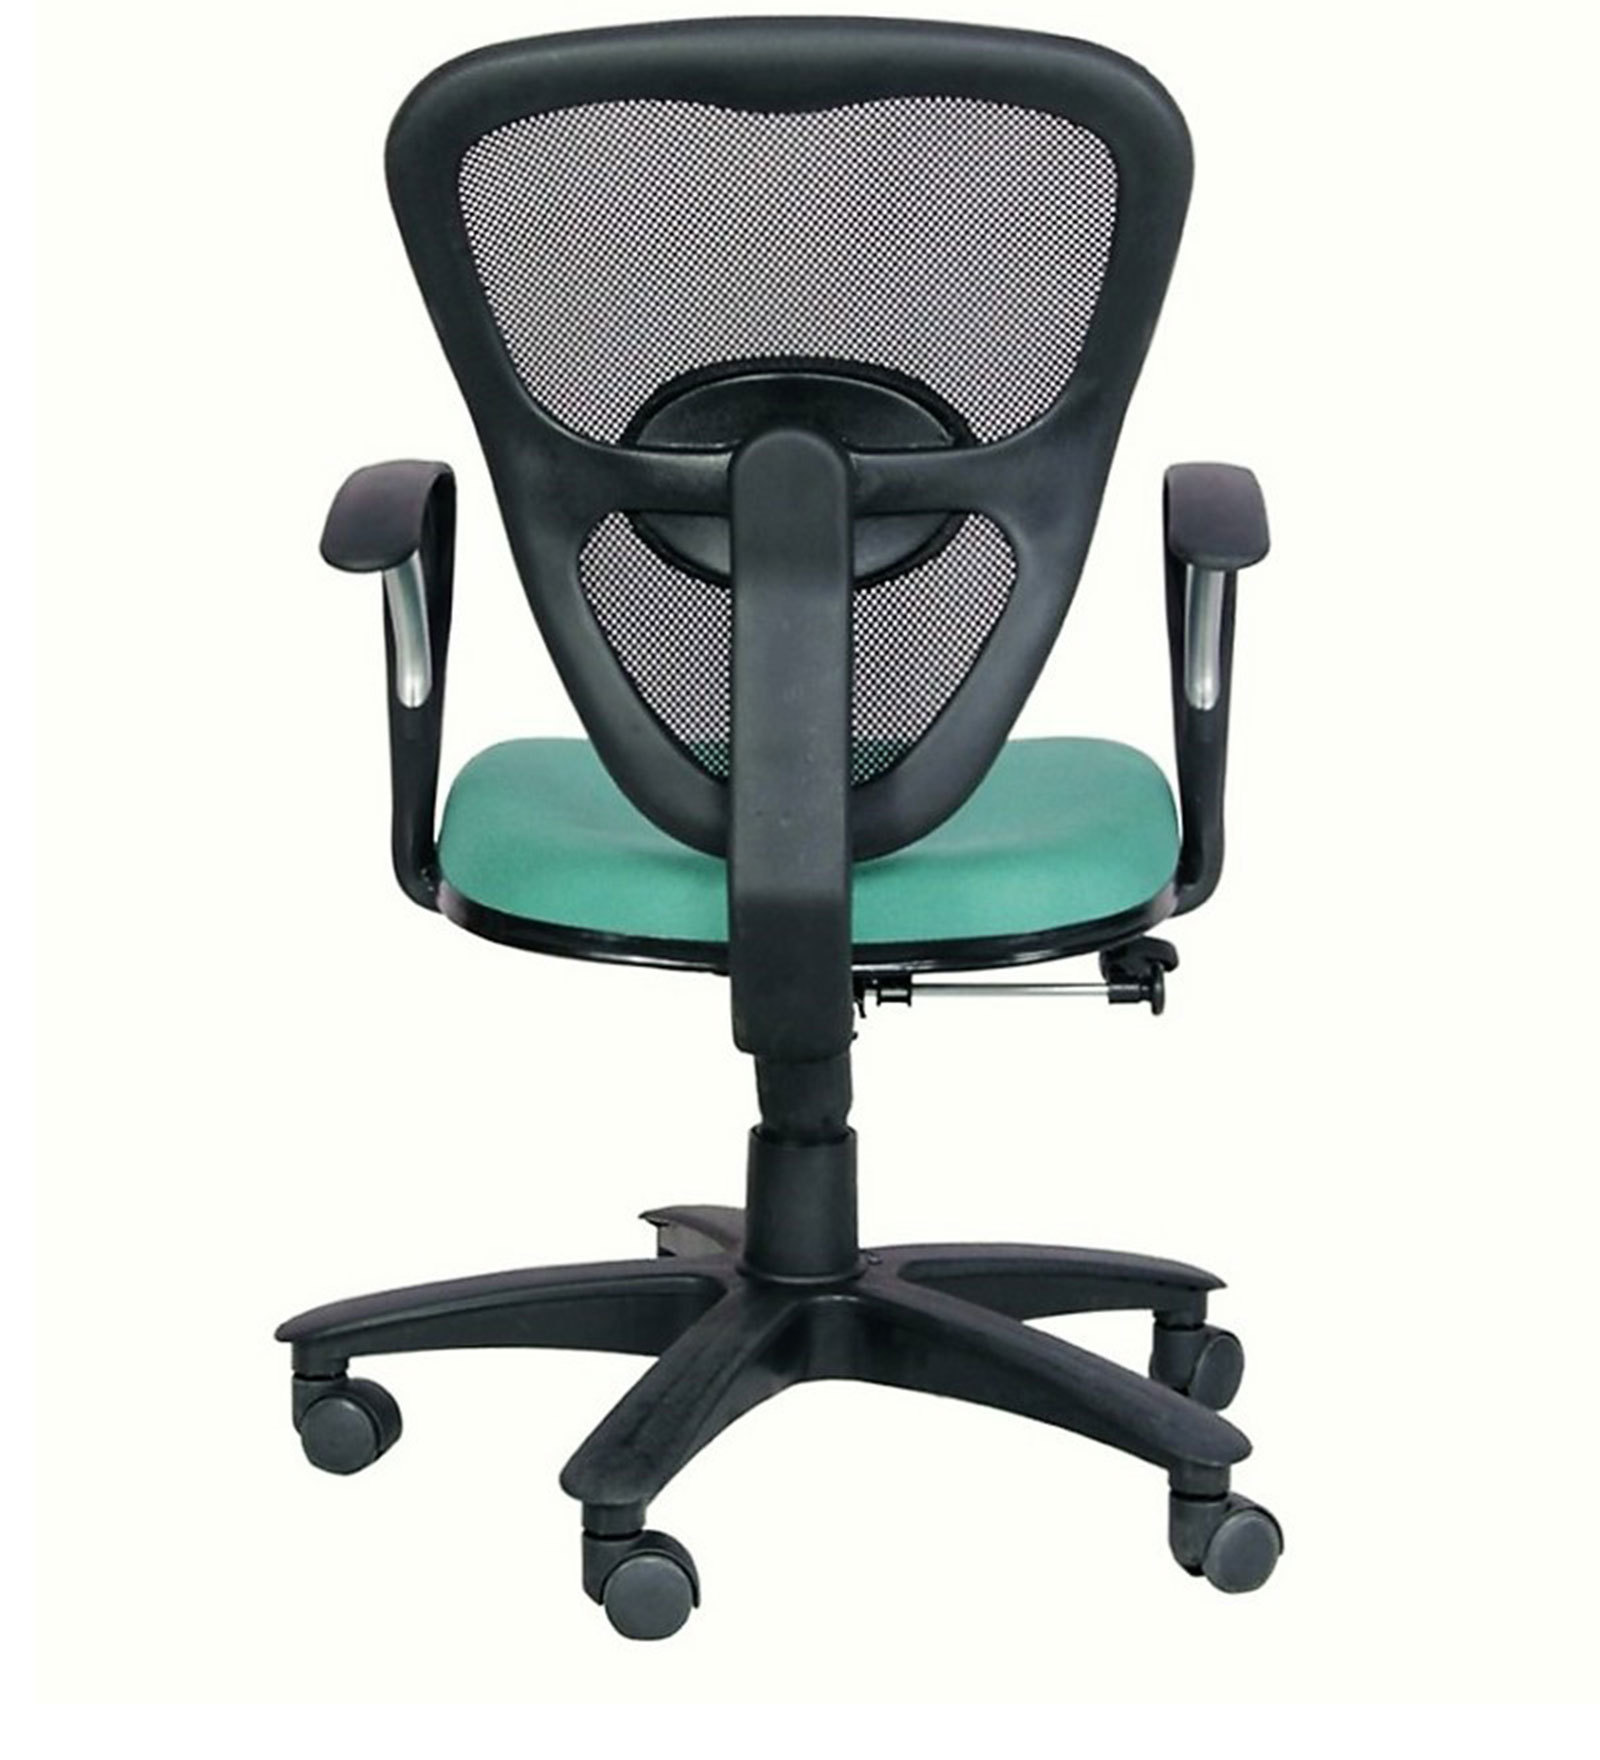Triangular Back Ergonomic Chair with Green Seat by Adiko Systems: (198, 21, 1405, 1643)
